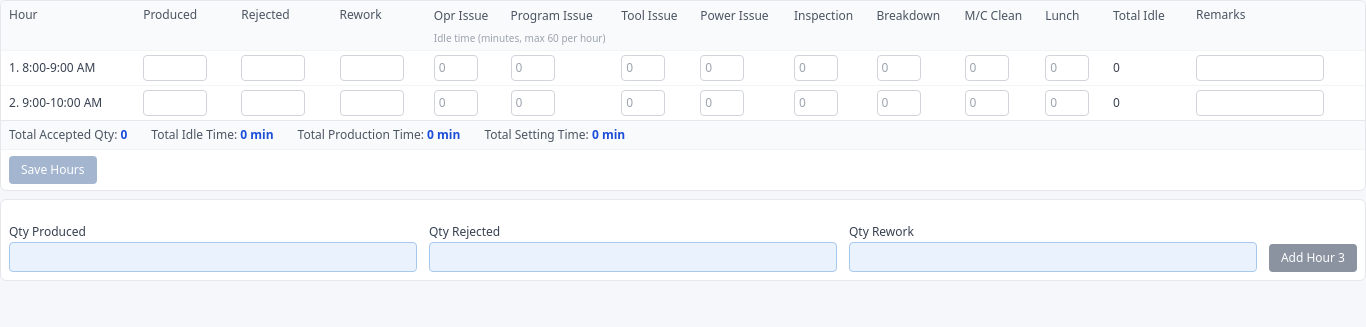
HourlySlotsEntry -- qty validation › negative produced blocks Save (showIdle=true, Data Entry / Manual Ops)
Later steps or results of the test are not shown.
Type "-5" into the number field named "Hour 1 produced" at {"x": 175, "y": 68}, box [143,55,207,81]
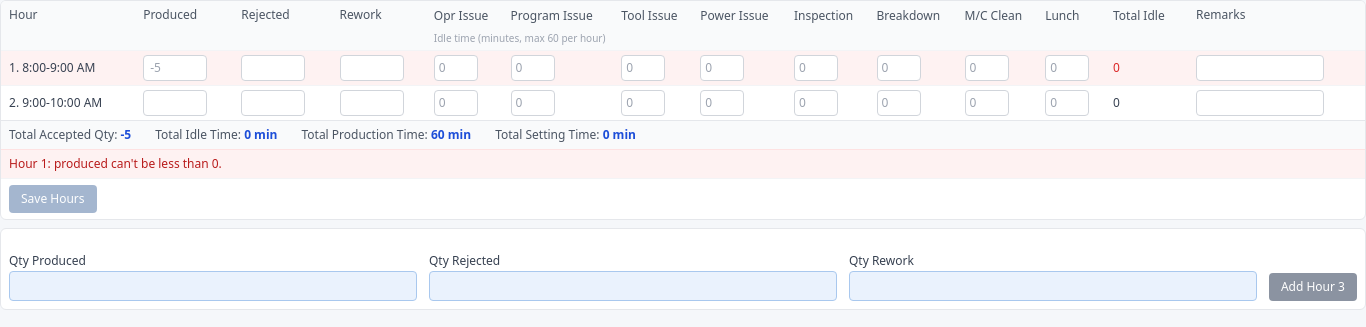
Expected: the button "Save Hours" is disabled, [9,185,97,213]
Now the text "Hour 1: produced can't be less than 0." is shown, box [9,155,222,172]
